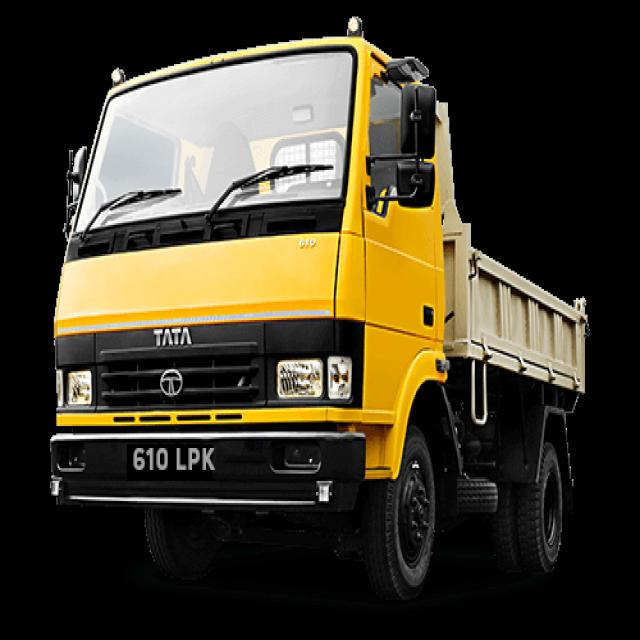dump_truck: (40, 9, 588, 614)
